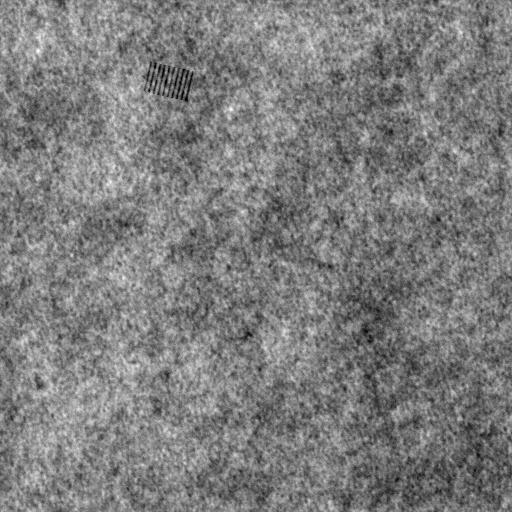DefectTypeB: (144, 64, 194, 102)
